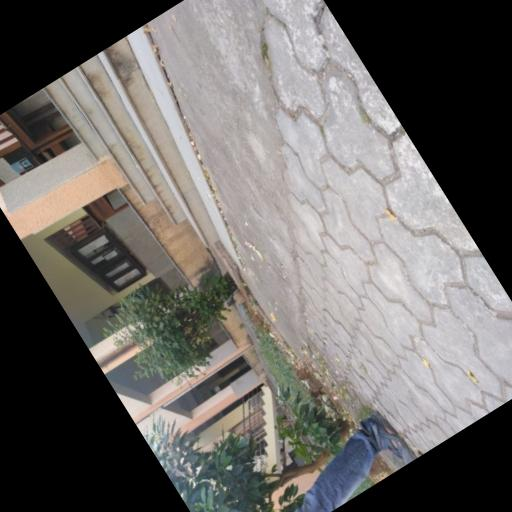stairs: (43, 36, 219, 246), (253, 385, 281, 469)
